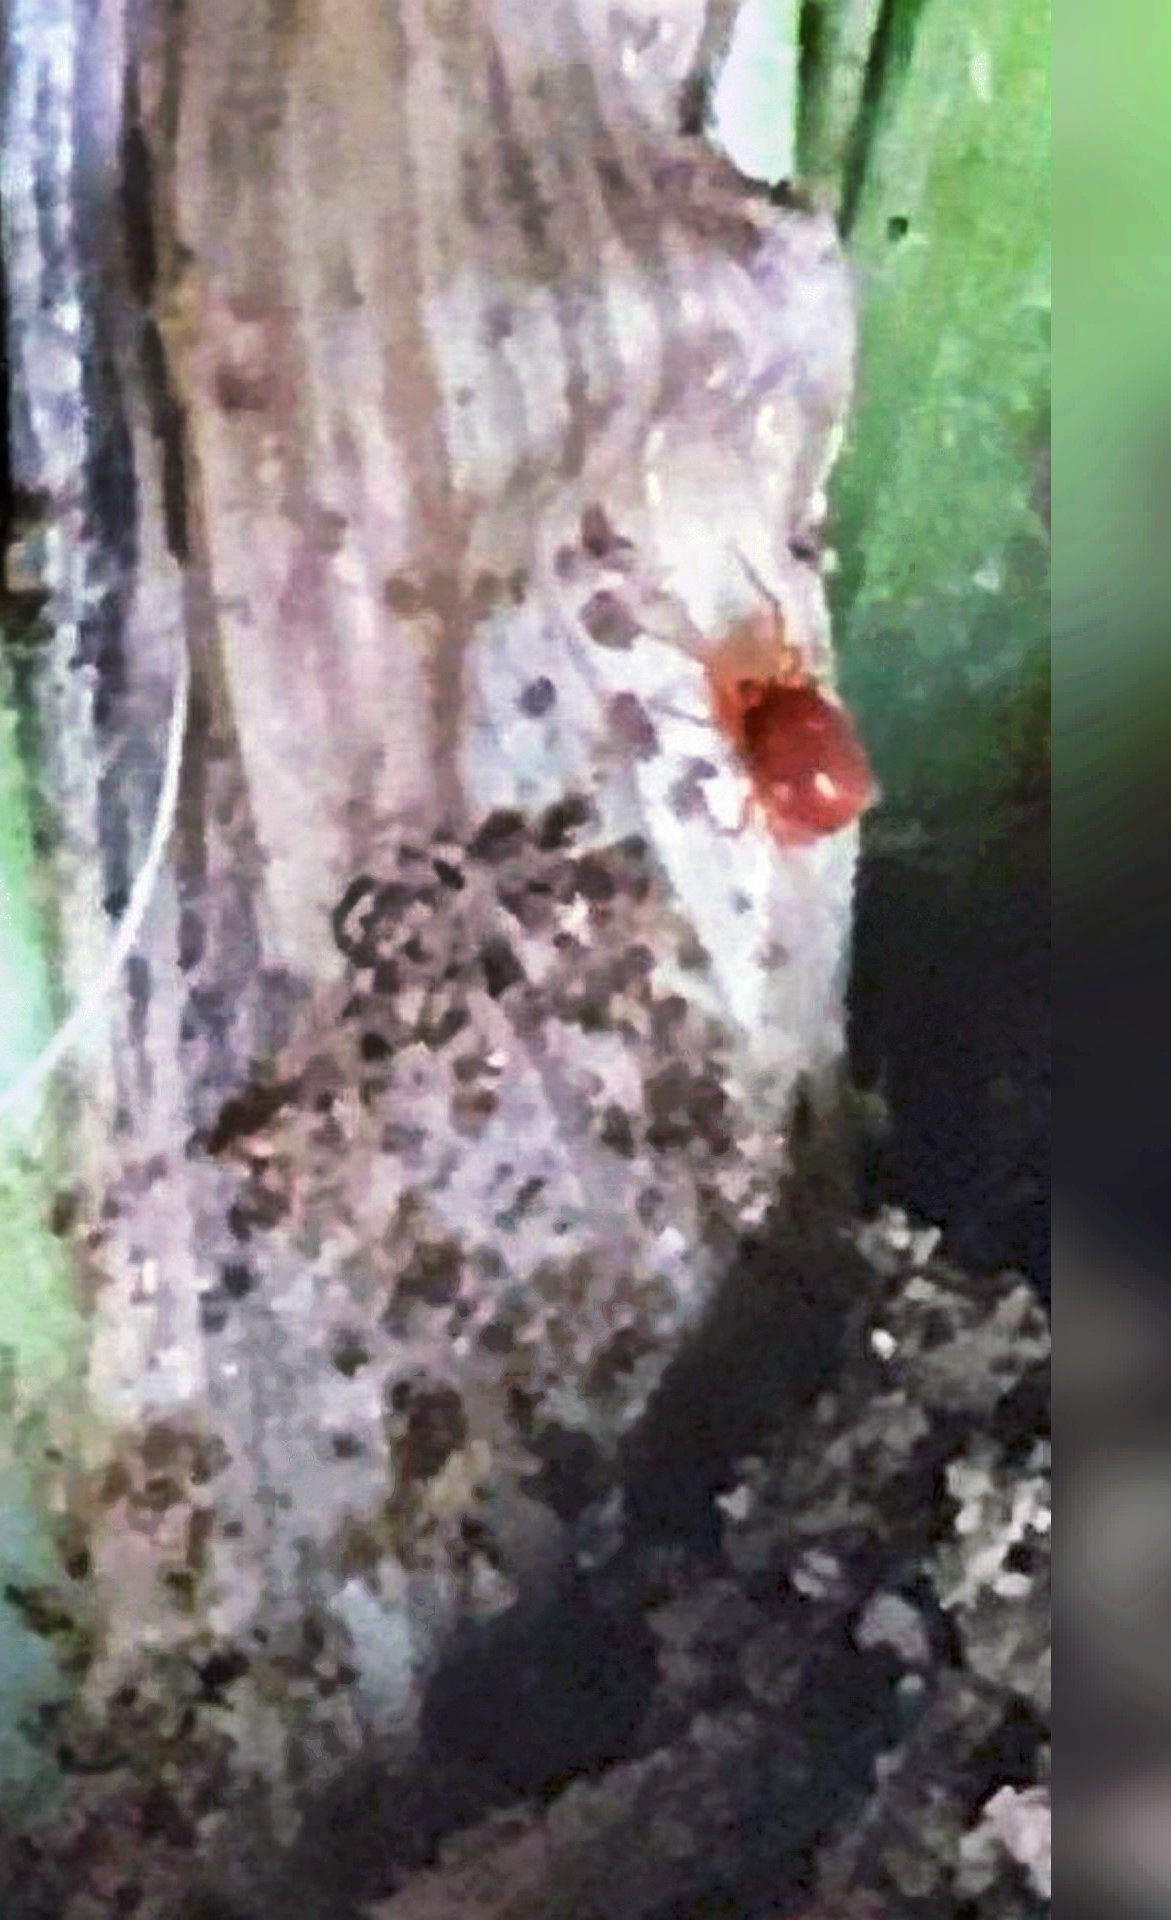Wheat Red Spider: (627, 542, 924, 902)
